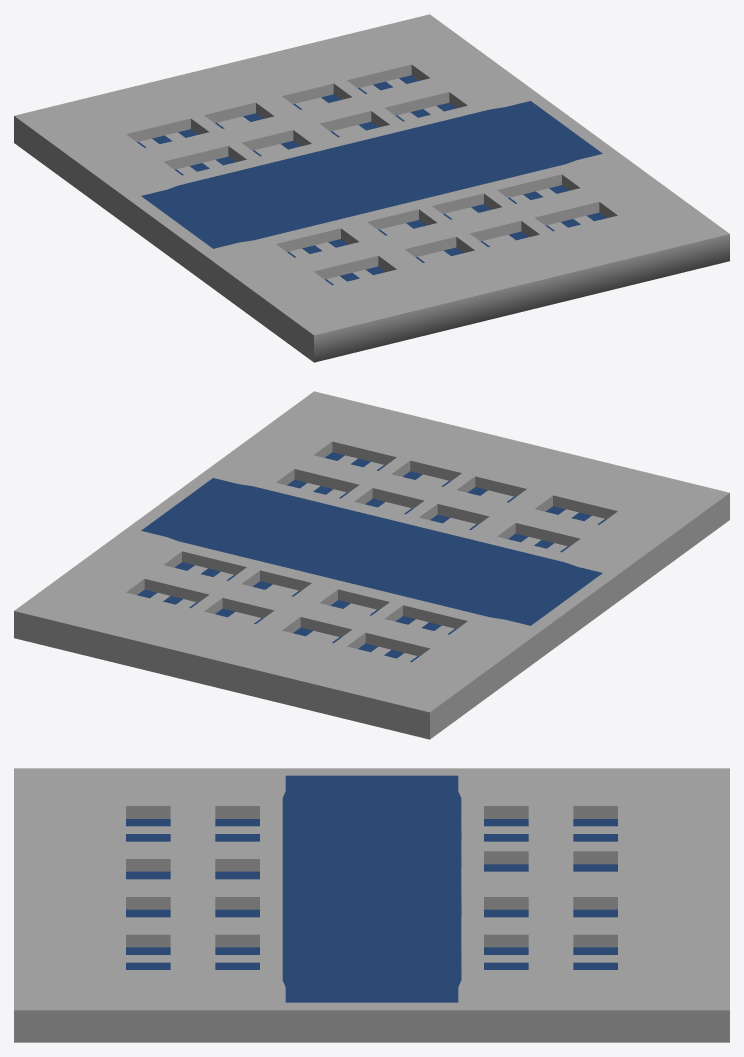
The model's file is Floor_07.fbx.
3 renders of one model, top to bottom at view 1: azimuth 30°, elevation 25°; view 2: azimuth 150°, elevation 25°; view 3: azimuth 270°, elevation 25°, orthographic. The views are drawn at different scales.
Visible parts, largest first — view 1: Cube.001; view 2: Cube.001; view 3: Cube.001.
Boxes of the visible parts, x1=… form: Cube.001: x1=14, y1=14, x2=729, y2=362; Cube.001: x1=14, y1=391, x2=729, y2=739; Cube.001: x1=14, y1=768, x2=729, y2=1042.
Size of the model in its own units: 400 by 25 by 500.
